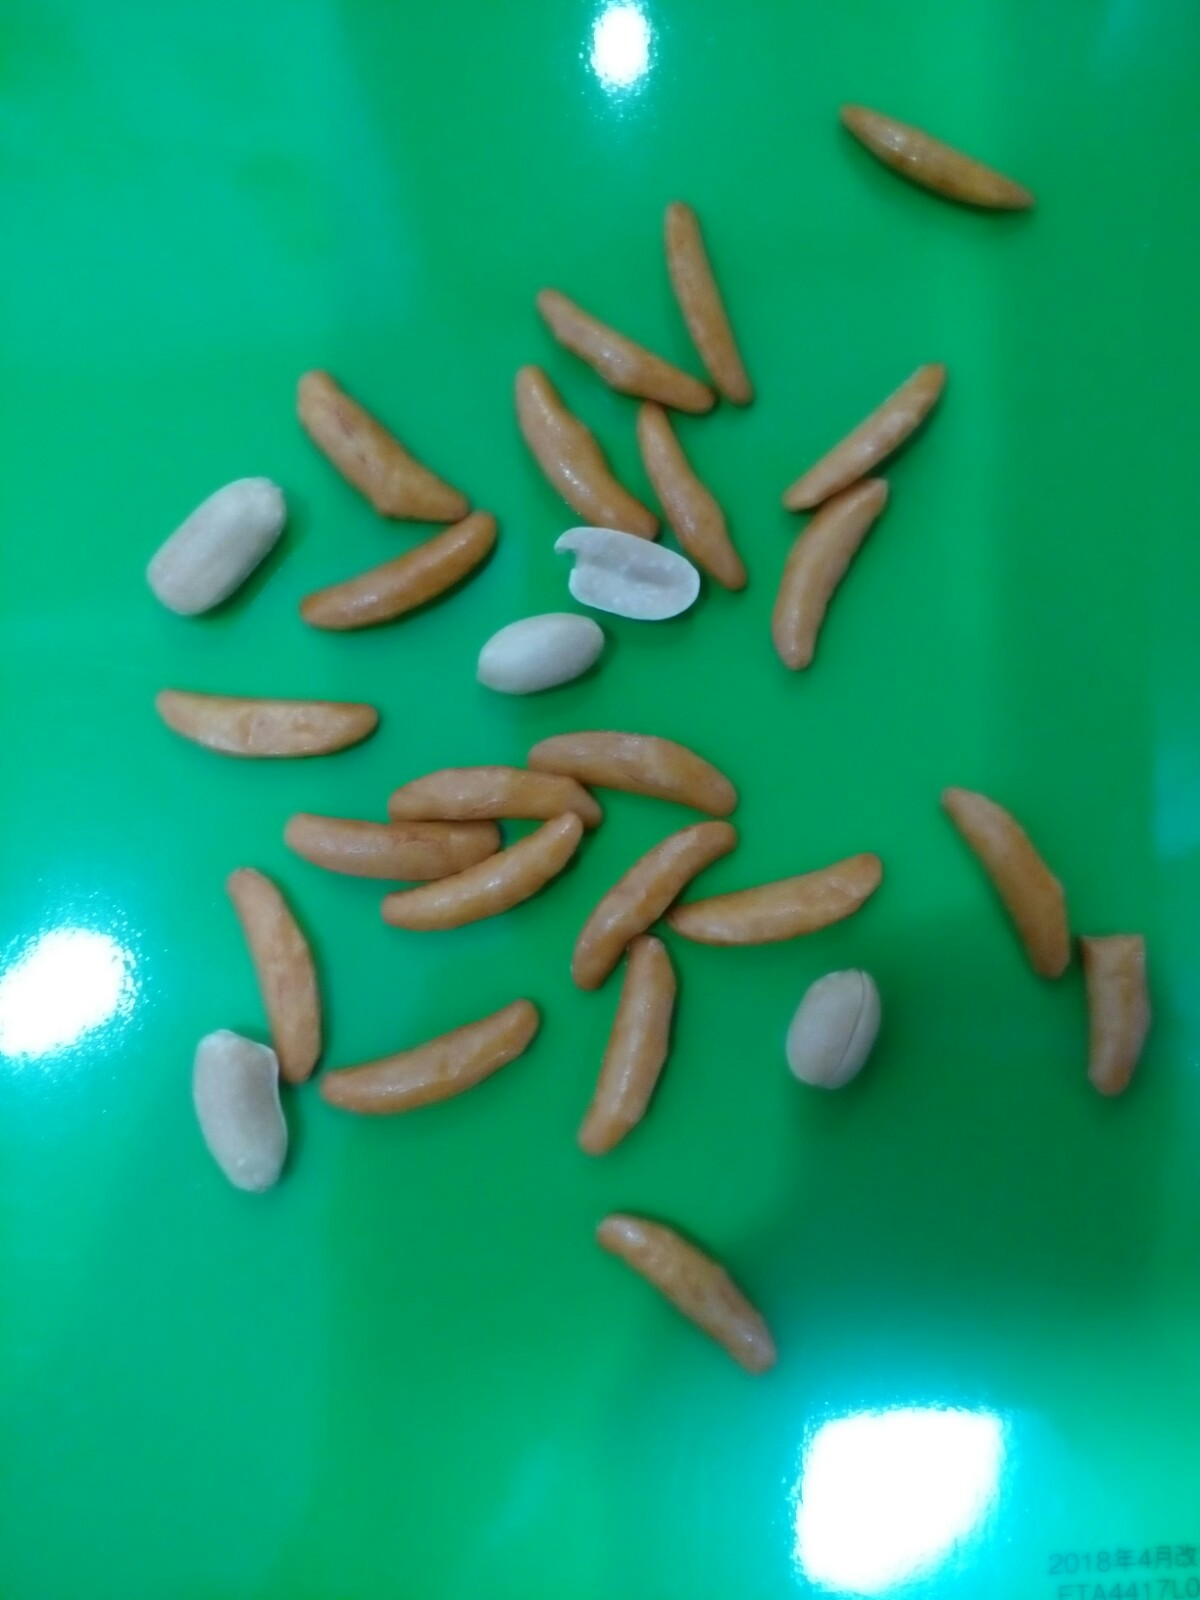peanut: (141, 472, 303, 621), (192, 1026, 299, 1208), (548, 504, 705, 625), (776, 957, 896, 1102), (471, 595, 616, 699)
